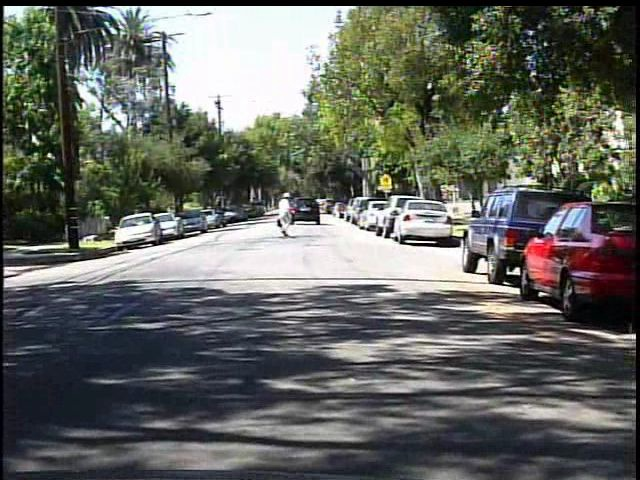person: (272, 192, 299, 242)
